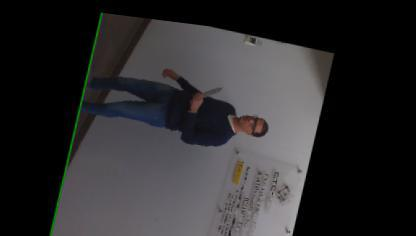knife: (191, 72, 227, 102)
